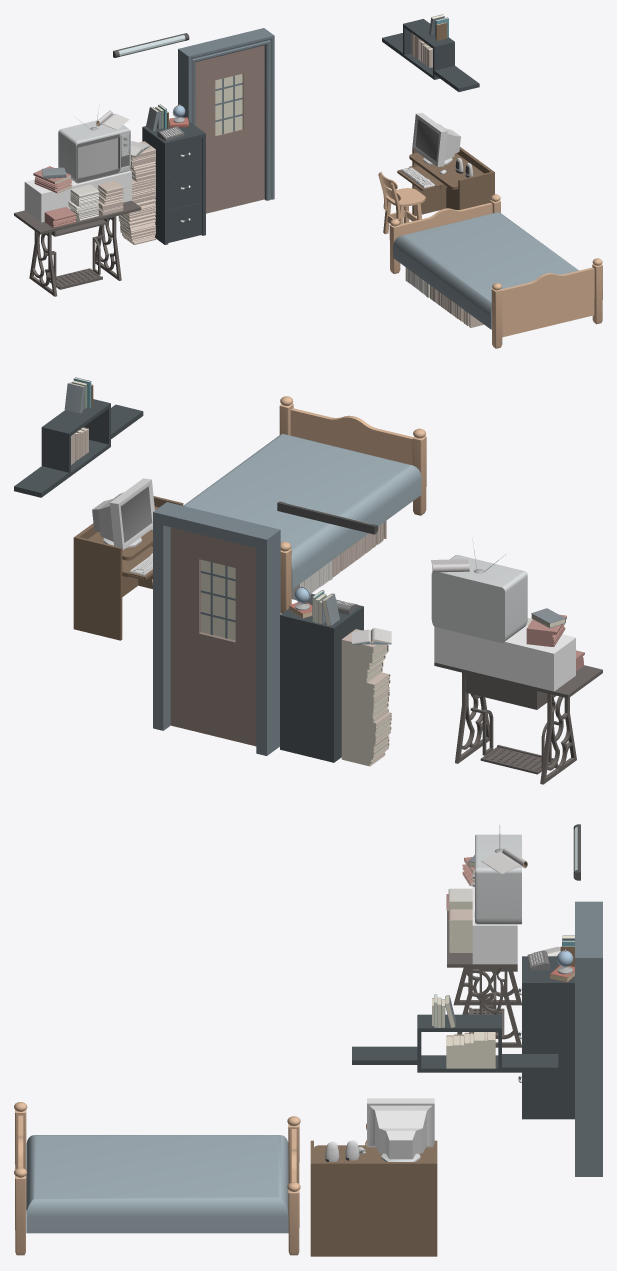
File: Room_Props.fbx
The picture shows the model from 3 angles, top to bottom: view 1: azimuth 30°, elevation 25°; view 2: azimuth 150°, elevation 25°; view 3: azimuth 270°, elevation 25°; orthographic projection. The views are drawn at different scales.
Parts seen in each view (by area): view 1: Bed, Door, Filing_Cabinet, Doorway, Metal_Rack, TV, Desktop_Table, Book_Rack, Tall_Book_Pile, TV_Box, Monitor_Head, Chair (+8 smaller); view 2: Bed, Door, Doorway, Filing_Cabinet, Metal_Rack, TV, Desktop_Table, TV_Box, Tall_Book_Pile, Book_Rack, Monitor_Head, Tube_Light (+6 smaller); view 3: Bed, Desktop_Table, Doorway, Filing_Cabinet, Book_Rack, Monitor_Head, TV, Metal_Rack, TV_Box, Book_Set_3, Book_Pile_Vertical_1, Notebook (+1 smaller).
Boxes of the visible parts, box(x1,y1,x2,y2) form: Bed: box(389, 194, 602, 348); Door: box(195, 45, 264, 213); Filing_Cabinet: box(142, 117, 205, 244); Doorway: box(178, 28, 274, 200); Metal_Rack: box(14, 200, 141, 296); TV: box(58, 106, 130, 183); Desktop_Table: box(397, 147, 494, 215); Book_Rack: box(382, 19, 479, 91); Tall_Book_Pile: box(118, 141, 155, 244); TV_Box: box(24, 170, 131, 222); Monitor_Head: box(412, 113, 460, 166); Chair: box(378, 171, 425, 234); Bed: box(183, 396, 426, 613); Door: box(170, 527, 256, 746); Doorway: box(153, 502, 280, 755); Filing_Cabinet: box(280, 593, 363, 762); Metal_Rack: box(434, 662, 602, 784); TV: box(431, 538, 527, 643); Desktop_Table: box(73, 496, 183, 640); TV_Box: box(434, 625, 575, 691); Tall_Book_Pile: box(341, 629, 391, 766); Book_Rack: box(14, 399, 143, 497); Monitor_Head: box(92, 478, 154, 550); Tube_Light: box(277, 501, 378, 534); Bed: box(14, 1102, 300, 1255); Desktop_Table: box(310, 1140, 437, 1256); Doorway: box(575, 901, 602, 1176); Filing_Cabinet: box(518, 956, 574, 1119); Book_Rack: box(352, 1014, 558, 1072); Monitor_Head: box(367, 1098, 434, 1159); TV: box(472, 825, 521, 924); Metal_Rack: box(447, 911, 521, 1047); TV_Box: box(472, 886, 517, 964); Book_Set_3: box(446, 1032, 495, 1068); Book_Pile_Vertical_1: box(449, 909, 472, 952); Notebook: box(481, 847, 527, 874).
Bounding box in the file's own units: 687 × 309 × 648.
